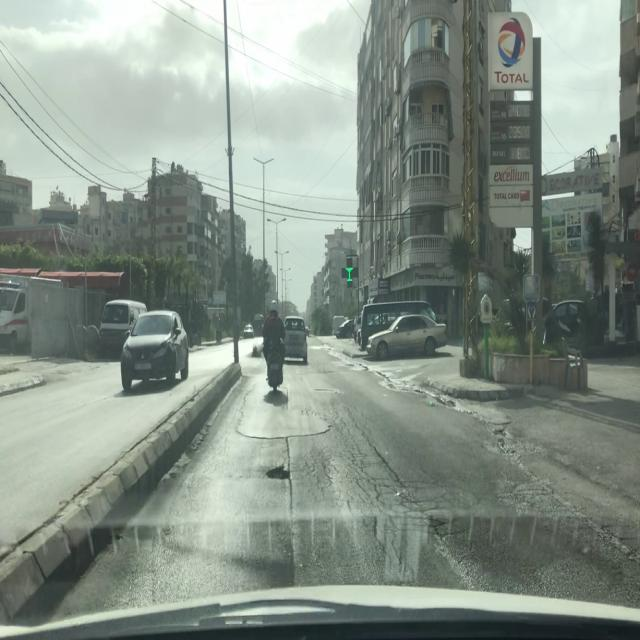Pothole: (264, 463, 292, 482)
